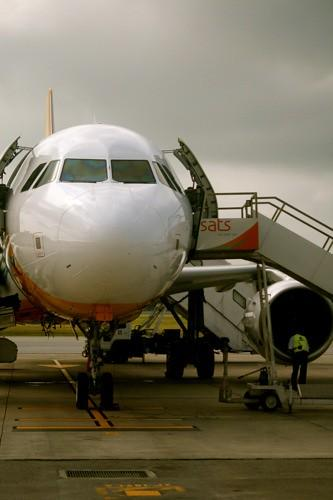plane: (1, 88, 333, 412)
